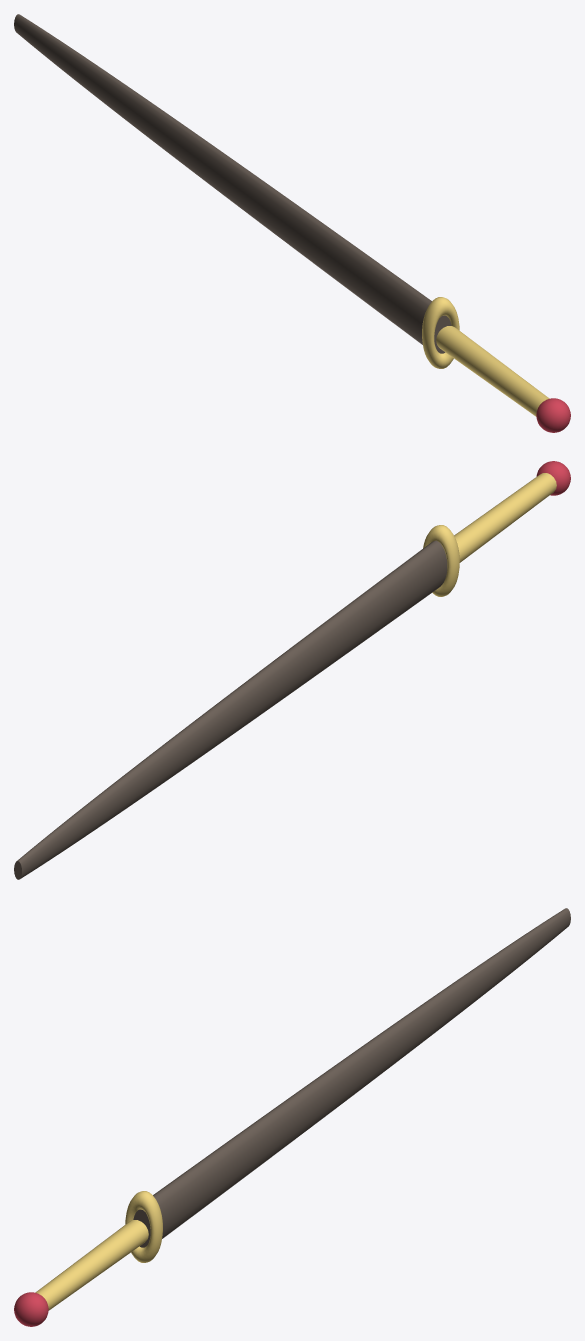
Rendered from ganondorf_sword.dae.
3 renders of one model, top to bottom at view 1: azimuth 30°, elevation 25°; view 2: azimuth 150°, elevation 25°; view 3: azimuth 330°, elevation 25°, orthographic.
Visible parts, largest first — view 1: GanondorfSword; view 2: GanondorfSword; view 3: GanondorfSword.
Part boxes in pixels (<box>): GanondorfSword: <box>14,14,570,432</box>; GanondorfSword: <box>14,461,570,879</box>; GanondorfSword: <box>14,908,570,1326</box>.
Bounding box in the file's own units: 0.045 × 1.26 × 0.09.
